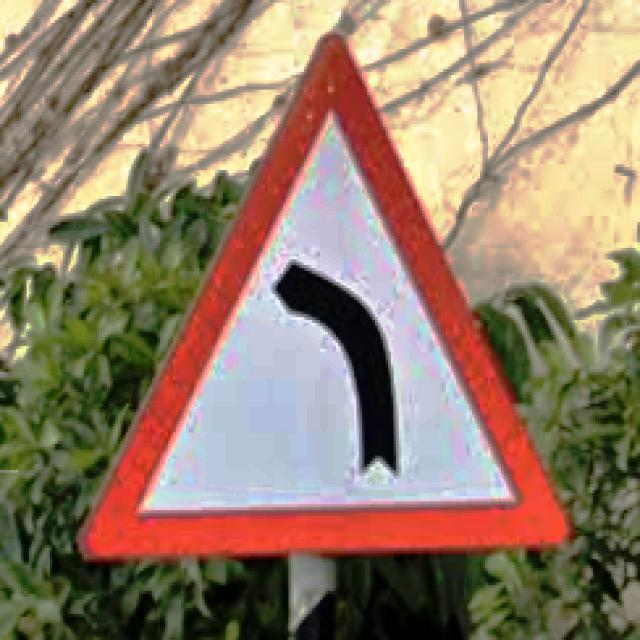leftbend: (79, 35, 572, 562)
